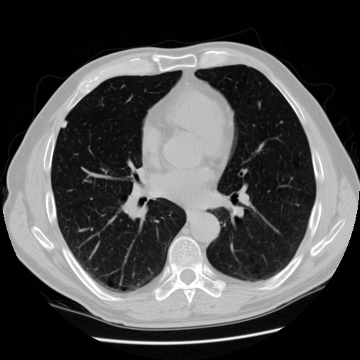nodule: (60, 120, 68, 128)
